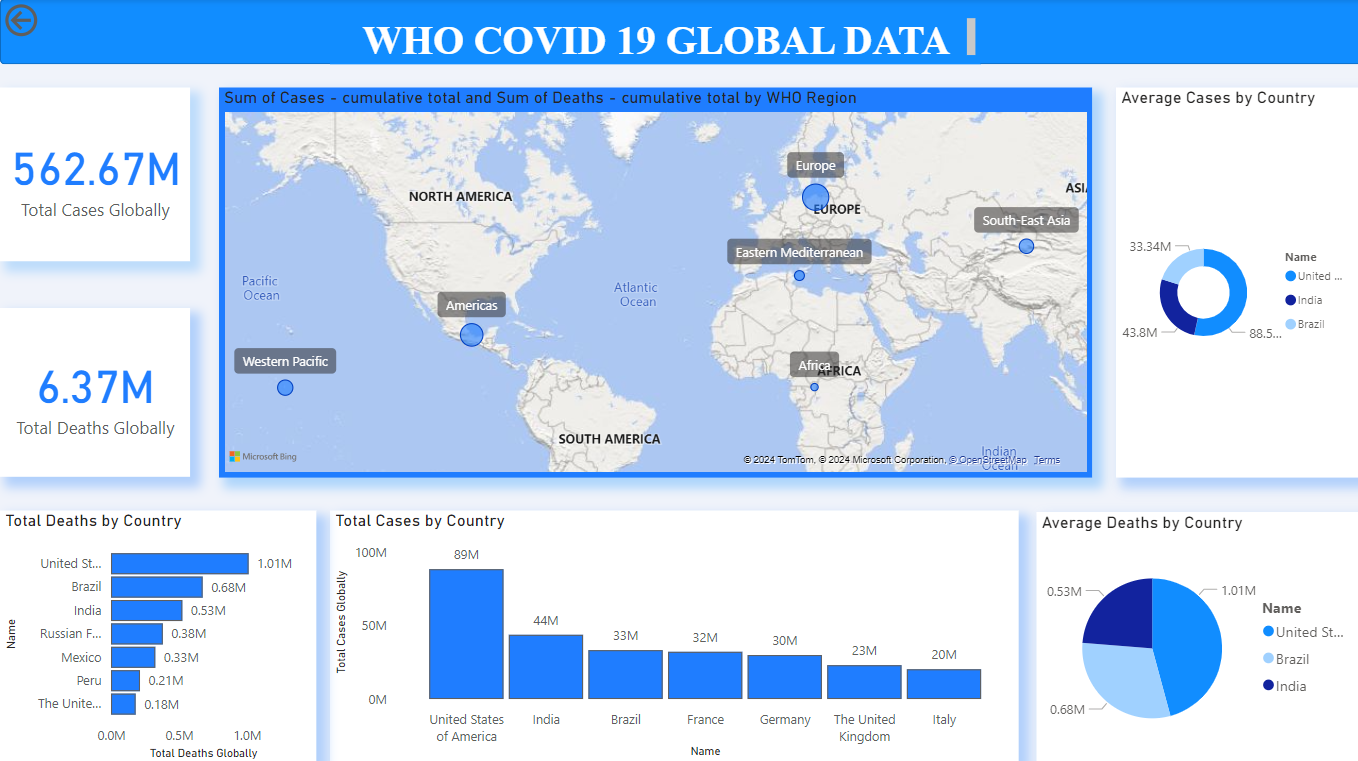

This screenshot's page, from the dashboard's own definition file:
{"tool":"powerbi","page":{"name":"Page 1","canvas":[1280,720],"ordinal":0},"visuals":[{"type":"map","fields":{"Size":["Sum(WHO-COVID-19-global-table-data.Cases - cumulative total)"],"Category":["WHO-COVID-19-global-table-data.WHO Region","WHO-COVID-19-global-table-data.Name"]},"box":[205.9,83.2,820.6,366.6],"z":0},{"type":"card","fields":{"Values":["WHO-COVID-19-global-table-data.Total Cases Globally"]},"box":[0,83.3,178.7,163.5],"z":1000},{"type":"card","fields":{"Values":["WHO-COVID-19-global-table-data.Total Deaths Globally"]},"box":[0,290.7,178.7,159],"z":2000},{"type":"clusteredColumnChart","title":"Total Cases by Country","fields":{"Category":["WHO-COVID-19-global-table-data.Name"],"Y":["WHO-COVID-19-global-table-data.Total Cases Globally"]},"box":[310.2,480.8,647.2,236.9],"z":3000},{"type":"clusteredBarChart","title":"Total Deaths  by Country","fields":{"Category":["WHO-COVID-19-global-table-data.Name"],"Y":["WHO-COVID-19-global-table-data.Total Deaths Globally"]},"box":[0,481.4,297.1,238.6],"z":4000},{"type":"donutChart","title":"Average Cases by Country","fields":{"Category":["WHO-COVID-19-global-table-data.Name"],"Y":["WHO-COVID-19-global-table-data.Average Cases per Country"]},"box":[1049,83.2,229.8,366.6],"z":5000},{"type":"pieChart","title":"Average Deaths by Country","fields":{"Category":["WHO-COVID-19-global-table-data.Name"],"Y":["WHO-COVID-19-global-table-data.Average_Deaths_Per_Country"]},"box":[973.6,481.5,305.9,237.7],"z":6000},{"type":"shape","box":[0,0,1280,61.4],"z":7000},{"type":"textbox","box":[310,12.9,611.4,48.6],"z":8000},{"type":"actionButton","box":[0,0,100,40],"z":9000}]}

Visuals, with their boxes in screenshot pixels (x1, y1, x2, y2), scaled from the page's 1280x720 canvas onto the 1358x761 screenshot:
map - Sum(WHO-COVID-19-global-table-data.Cases - cumulative total) x WHO-COVID-19-global-table-data.WHO Region: [218, 88, 1089, 475]
card - WHO-COVID-19-global-table-data.Total Cases Globally: [0, 88, 190, 261]
card - WHO-COVID-19-global-table-data.Total Deaths Globally: [0, 307, 190, 475]
"Total Cases by Country" clusteredColumnChart: [329, 508, 1016, 759]
"Total Deaths  by Country" clusteredBarChart: [0, 509, 315, 760]
"Average Cases by Country" donutChart: [1113, 88, 1357, 475]
"Average Deaths by Country" pieChart: [1033, 509, 1357, 760]
shape: [0, 0, 1357, 65]
textbox: [329, 14, 978, 65]
actionButton: [0, 0, 106, 42]
